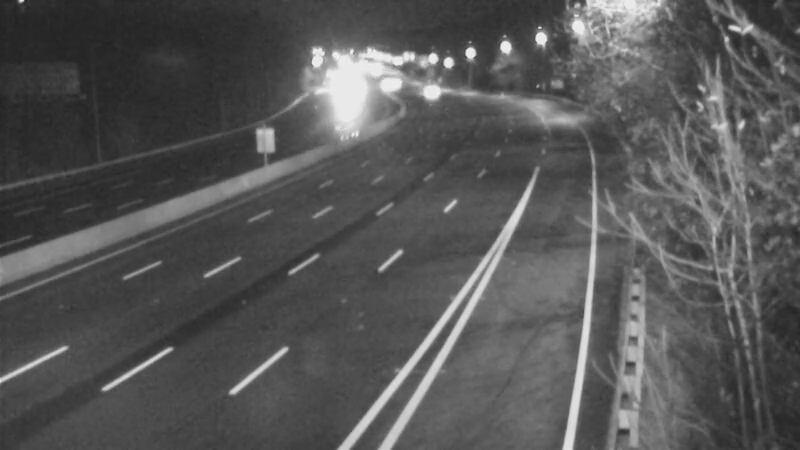vehicle: (409, 65, 459, 115), (321, 81, 371, 131)
